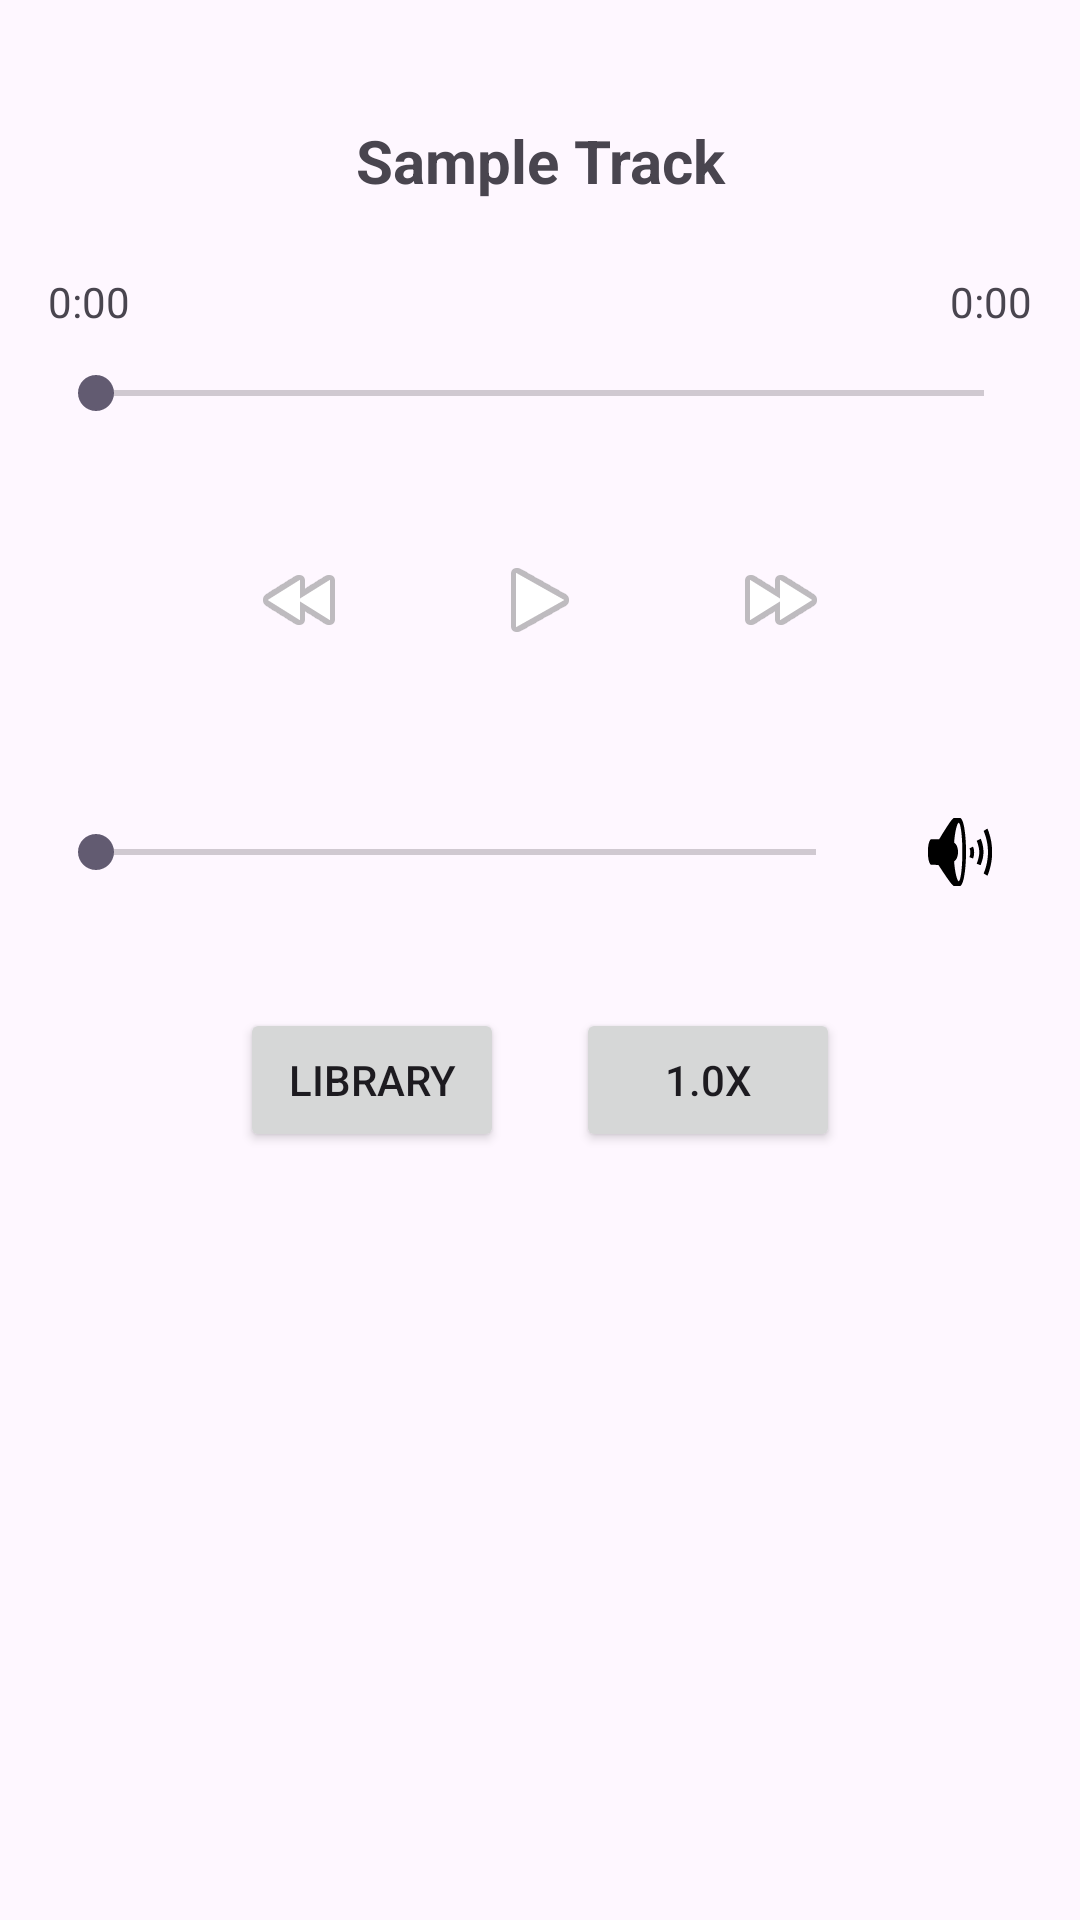

Locate icon controls on the screen. Image size 1080px×1920px, boxes as [left=x1, top=y1, right=x2, bottom=y2].
Mute: [left=928, top=818, right=992, bottom=886]
Play/Pause: [left=511, top=568, right=569, bottom=632]
Skip backward: [left=263, top=575, right=335, bottom=625]
Skip forward: [left=745, top=575, right=817, bottom=625]
